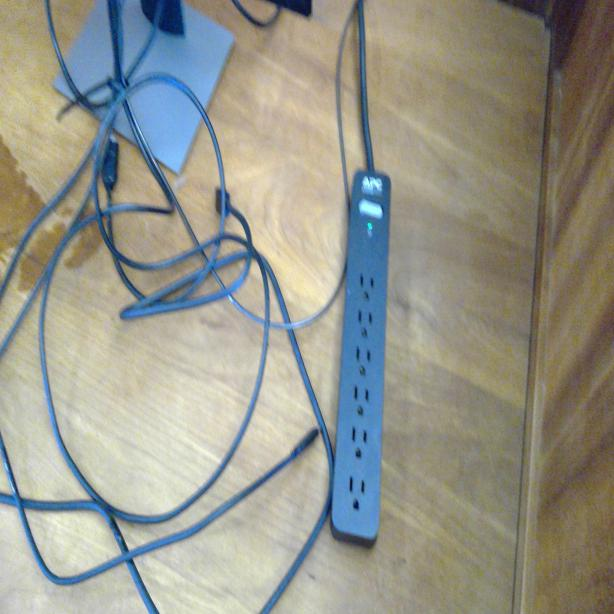typeb: (345, 474, 367, 514), (350, 420, 370, 463), (352, 383, 372, 417), (358, 267, 376, 304), (354, 343, 373, 376), (358, 308, 374, 338)
